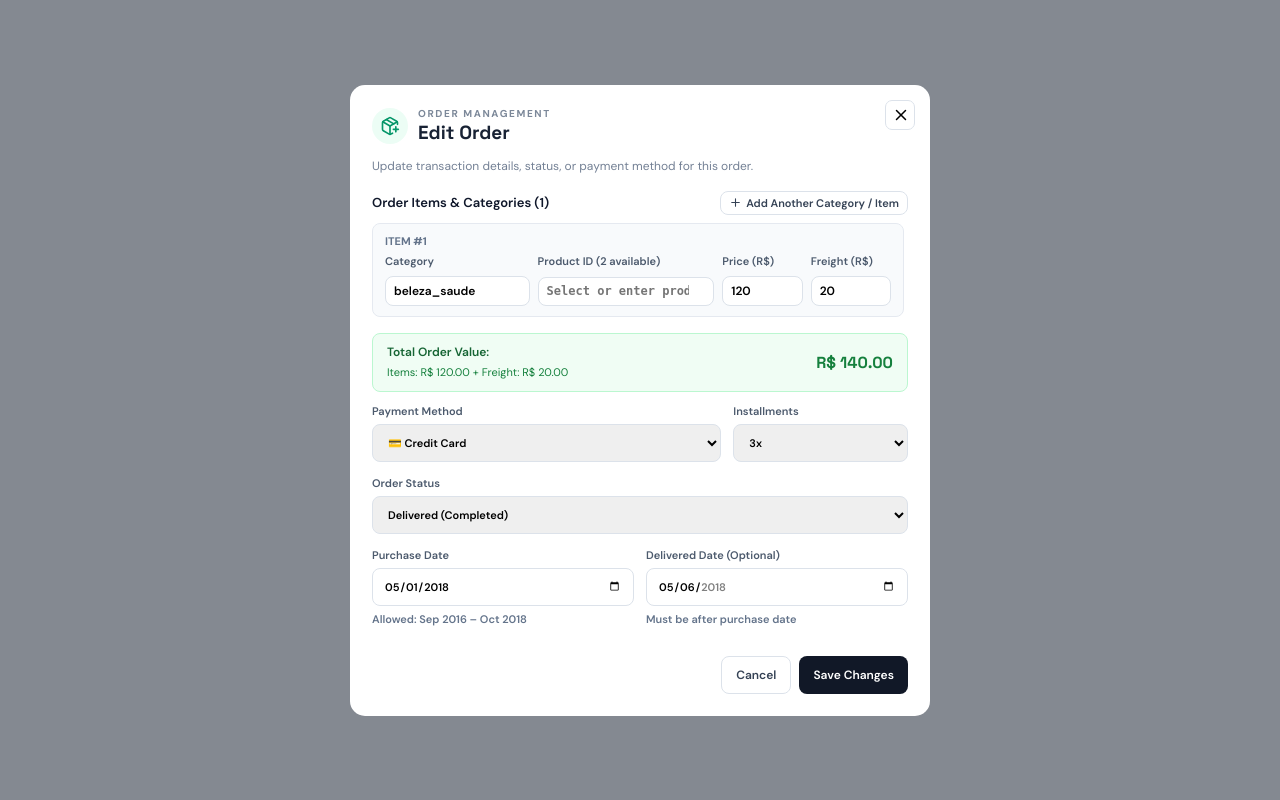
Scenario: OrderModal Component › handles save rejection and shows API error
Click the button "Save Changes" at (854, 674), box [799,656,908,694]
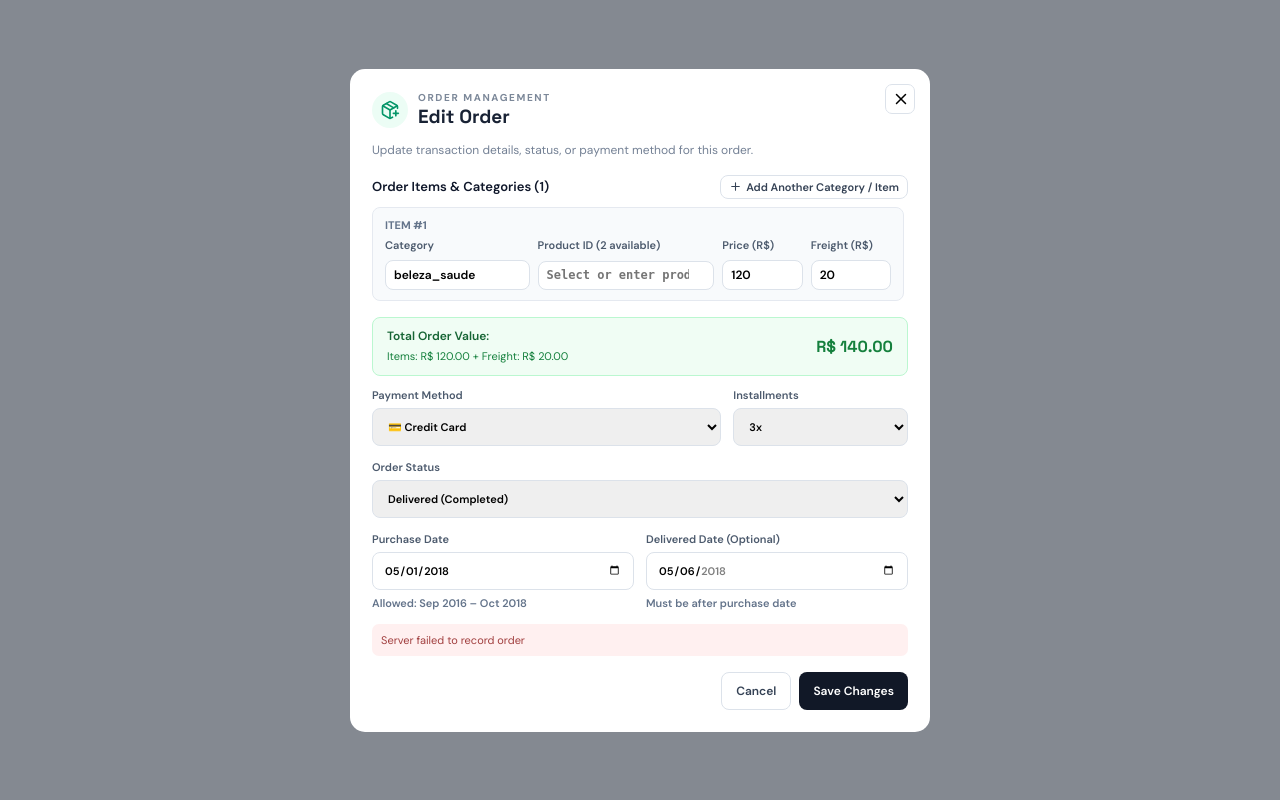
Expected: the text "Server failed to record order" is shown, [372,624,908,656]
